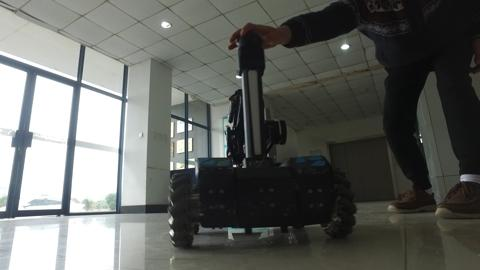chariot: (152, 32, 371, 251)
